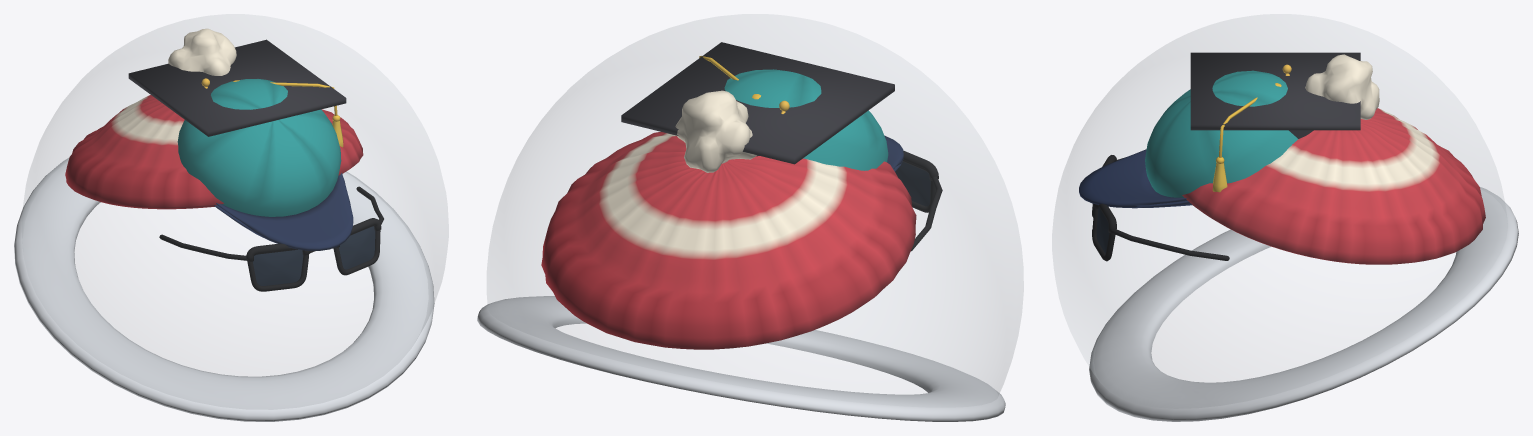
Rendered from accessories.glb.
3 renders of one model, left to right at view 1: azimuth 30°, elevation 25°; view 2: azimuth 150°, elevation 25°; view 3: azimuth 270°, elevation 25°, orthographic. The views are drawn at different scales.
Visible parts, largest first — view 1: BubbleHelmet, BaseballCap, Beanie, GradCap, Sunglasses; view 2: BubbleHelmet, Beanie, GradCap, BaseballCap, Sunglasses; view 3: BubbleHelmet, Beanie, BaseballCap, GradCap, Sunglasses.
Boxes of the visible parts, <box> form: BubbleHelmet: <box>14,14,448,421</box>; BaseballCap: <box>177,79,353,250</box>; Beanie: <box>65,28,363,209</box>; GradCap: <box>128,39,346,147</box>; Sunglasses: <box>159,186,383,291</box>; BubbleHelmet: <box>477,14,1023,421</box>; Beanie: <box>541,90,916,349</box>; GradCap: <box>621,42,894,164</box>; BaseballCap: <box>724,69,903,171</box>; Sunglasses: <box>895,150,942,251</box>; BubbleHelmet: <box>1052,14,1518,421</box>; Beanie: <box>1182,54,1485,264</box>; BaseballCap: <box>1079,70,1298,208</box>; GradCap: <box>1190,52,1360,192</box>; Sunglasses: <box>1092,155,1229,261</box>.
Bounding box in the file's own units: 0.9394 × 0.7665 × 0.9599.
